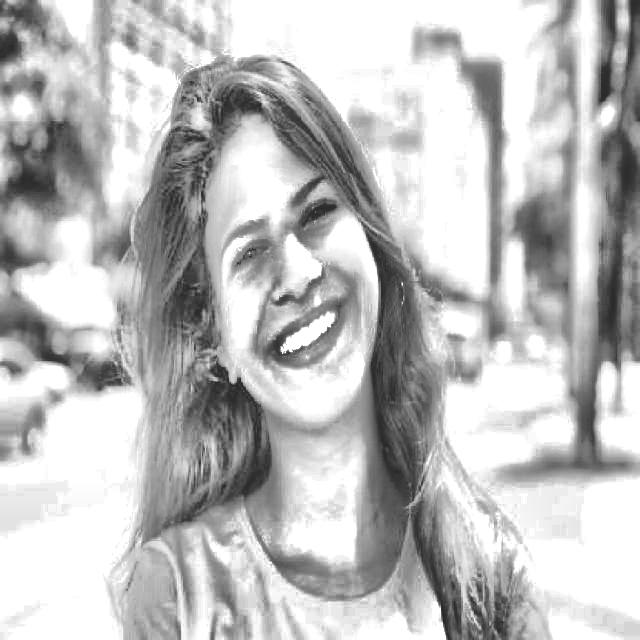happy: (220, 167, 357, 373)
